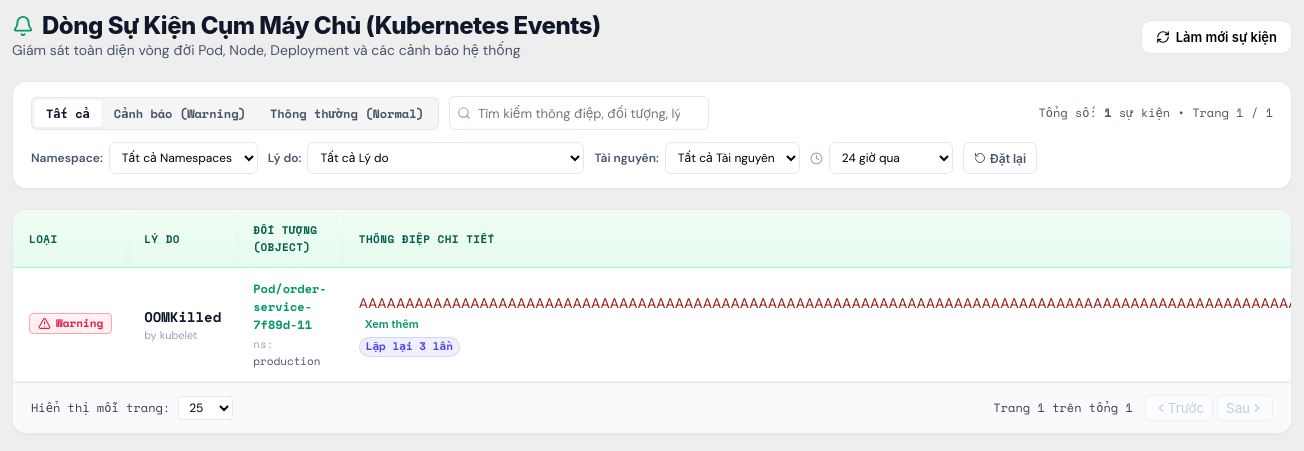
Scenario: Task [S4][PB18] 4.1 – Kubernetes Events List & Filters UI Suite › 5. Row Details, Repetition Count & Message Expansion › 5.3. Long message renders "Xem thêm" button which expands the message text
Click the button "Xem thêm" at (392, 324), box [365,317,418,331]
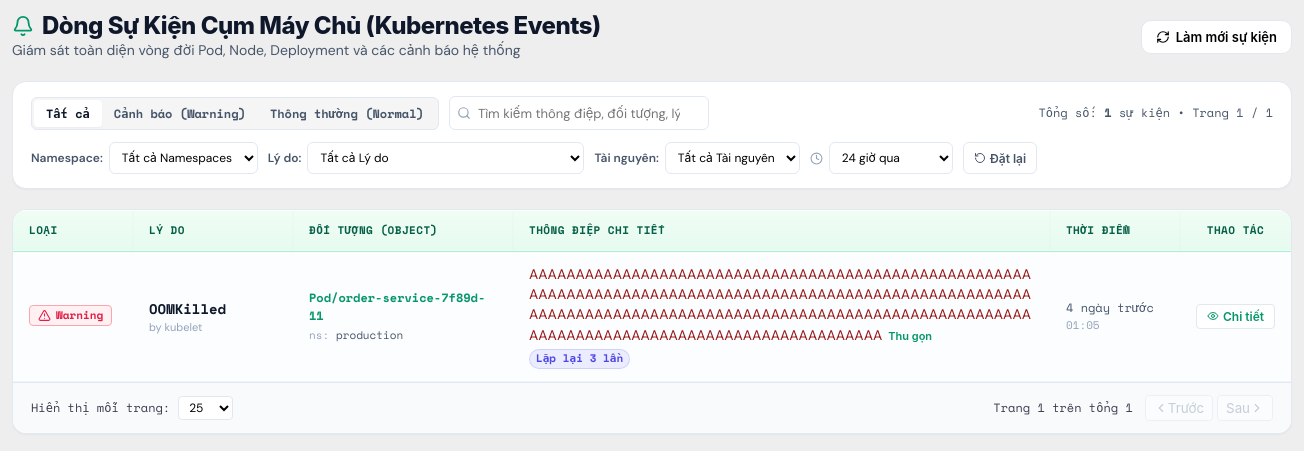
expect the button "Thu gọn" is shown: met, box [888,329,932,343]
